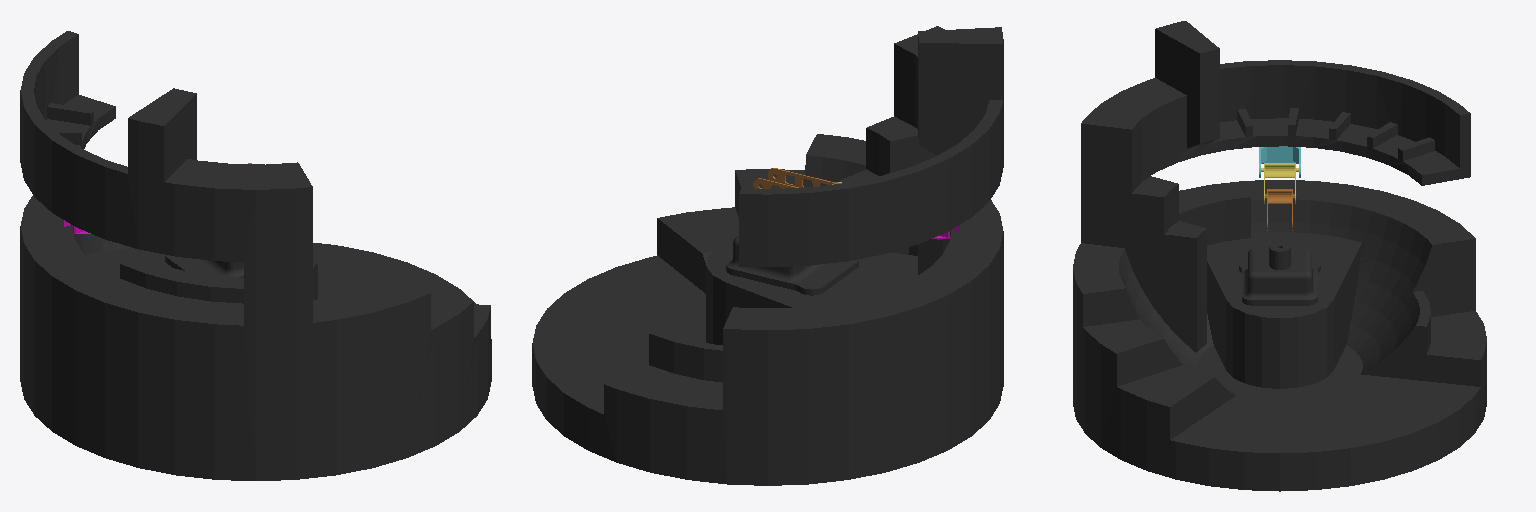
robot.urdf — Robot_URDF_Visuals:
<?xml version="1.0" encoding="utf-8"?>
<!-- This URDF was automatically created by SolidWorks to URDF Exporter! Originally created by [author] ([email redacted]) 
     Commit Version: 1.6.0-4-g7f85cfe  Build Version: 1.6.7995.38578
     For more information, please see http://wiki.ros.org/sw_urdf_exporter -->
<robot
  name="Robot_URDF_Visuals">
  <link
    name="Base_Link">
    <inertial>
      <origin
        xyz="-0.023518 -0.010863 0.071827"
        rpy="0 0 0" />
      <mass
        value="233.41" />
      <inertia
        ixx="10.744"
        ixy="0.13376"
        ixz="0.54602"
        iyy="10.299"
        iyz="0.28982"
        izz="11.726" />
    </inertial>
    <visual>
      <origin
        xyz="0 0 0"
        rpy="0 0 0" />
      <geometry>
        <mesh
          filename="package://Robot_URDF_Visuals/meshes/Base_Link.STL" />
      </geometry>
      <material
        name="">
        <color
          rgba="0.235 0.235 0.235 1" />
      </material>
    </visual>
    <collision>
      <origin
        xyz="0 0 0"
        rpy="0 0 0" />
      <geometry>
        <mesh
          filename="package://Robot_URDF_Visuals/meshes/Base_Link_Collision.STL" />
      </geometry>
    </collision>
  </link>
  <link
    name="Link_1">
    <inertial>
      <origin
        xyz="-4.4073E-18 1.5659E-19 0.027848"
        rpy="0 0 0" />
      <mass
        value="0.46369" />
      <inertia
        ixx="0.00017765"
        ixy="1.4414E-21"
        ixz="6.4285E-21"
        iyy="0.00016376"
        iyz="-2.9857E-20"
        izz="7.9649E-05" />
    </inertial>
    <visual>
      <origin
        xyz="0 0 0"
        rpy="0 0 0" />
      <geometry>
        <mesh
          filename="package://Robot_URDF_Visuals/meshes/Link_1.STL" />
      </geometry>
      <material
        name="">
        <color
          rgba="0.51 0.16 0.16 1" />
      </material>
    </visual>
    <collision>
      <origin
        xyz="0 0 0"
        rpy="0 0 0" />
      <geometry>
        <mesh
          filename="package://Robot_URDF_Visuals/meshes/Link_1_Collision.STL" />
      </geometry>
    </collision>
  </link>
  <joint
    name="Joint1"
    type="revolute">
    <origin
      xyz="0 0 0.09"
      rpy="0 0 0" />
    <parent
      link="Base_Link" />
    <child
      link="Link_1" />
    <axis
      xyz="0 0 -1" />
    <limit
      lower="-1.57"
      upper="1.57"
      effort="10"
      velocity="100" />
  </joint>
  <link
    name="Link_2">
    <inertial>
      <origin
        xyz="-0.06757 -0.0225 0"
        rpy="0 0 0" />
      <mass
        value="0.11993" />
      <inertia
        ixx="5.3919E-05"
        ixy="2.9147E-20"
        ixz="1.5432E-20"
        iyy="0.00022432"
        iyz="-1.7123E-21"
        izz="0.00026271" />
    </inertial>
    <visual>
      <origin
        xyz="0 0 0"
        rpy="0 0 0" />
      <geometry>
        <mesh
          filename="package://Robot_URDF_Visuals/meshes/Link_2.STL" />
      </geometry>
      <material
        name="">
        <color
          rgba="0.682 0.471 0.255 1" />
      </material>
    </visual>
    <collision>
      <origin
        xyz="0 0 0"
        rpy="0 0 0" />
      <geometry>
        <mesh
          filename="package://Robot_URDF_Visuals/meshes/Link_2_Collision.STL" />
      </geometry>
    </collision>
  </link>
  <joint
    name="Joint2"
    type="revolute">
    <origin
      xyz="0 0.0225 0.045"
      rpy="0 0 0" />
    <parent
      link="Link_1" />
    <child
      link="Link_2" />
    <axis
      xyz="-3.1128E-05 -1 0" />
    <limit
      lower="-1.57"
      upper="1.57"
      effort="10"
      velocity="100" />
  </joint>
  <link
    name="Link_3">
    <inertial>
      <origin
        xyz="-0.07128 -0.0275 2.7756E-17"
        rpy="0 0 0" />
      <mass
        value="0.12851" />
      <inertia
        ixx="8.1361E-05"
        ixy="6.4472E-20"
        ixz="-1.9113E-20"
        iyy="0.00023943"
        iyz="4.5184E-20"
        izz="0.00030386" />
    </inertial>
    <visual>
      <origin
        xyz="0 0 0"
        rpy="0 0 0" />
      <geometry>
        <mesh
          filename="package://Robot_URDF_Visuals/meshes/Link_3.STL" />
      </geometry>
      <material
        name="">
        <color
          rgba="0.824 0.765 0.353 1" />
      </material>
    </visual>
    <collision>
      <origin
        xyz="0 0 0"
        rpy="0 0 0" />
      <geometry>
        <mesh
          filename="package://Robot_URDF_Visuals/meshes/Link_3_Collision.STL" />
      </geometry>
    </collision>
  </link>
  <joint
    name="Joint3"
    type="revolute">
    <origin
      xyz="-0.107 0.005 0"
      rpy="0 0 0" />
    <parent
      link="Link_2" />
    <child
      link="Link_3" />
    <axis
      xyz="-3.1128E-05 -1 0" />
    <limit
      lower="-1.57"
      upper="1.57"
      effort="10"
      velocity="100" />
  </joint>
  <link
    name="Link_4">
    <inertial>
      <origin
        xyz="-0.045271 -0.035 5.5511E-17"
        rpy="0 0 0" />
      <mass
        value="0.14501" />
      <inertia
        ixx="0.00013446"
        ixy="-2.5635E-20"
        ixz="1.897E-20"
        iyy="0.00012072"
        iyz="-3.1903E-21"
        izz="0.00022946" />
    </inertial>
    <visual>
      <origin
        xyz="0 0 0"
        rpy="0 0 0" />
      <geometry>
        <mesh
          filename="package://Robot_URDF_Visuals/meshes/Link_4.STL" />
      </geometry>
      <material
        name="">
        <color
          rgba="0.431 0.784 0.824 1" />
      </material>
    </visual>
    <collision>
      <origin
        xyz="0 0 0"
        rpy="0 0 0" />
      <geometry>
        <mesh
          filename="package://Robot_URDF_Visuals/meshes/Link_4_Collision.STL" />
      </geometry>
    </collision>
  </link>
  <joint
    name="Joint4"
    type="revolute">
    <origin
      xyz="-0.107 0.0075 0"
      rpy="0 0 0" />
    <parent
      link="Link_3" />
    <child
      link="Link_4" />
    <axis
      xyz="3.1128E-05 1 0" />
    <limit
      lower="-1.57"
      upper="1.57"
      effort="10"
      velocity="100" />
  </joint>
  <link
    name="End_Effector_1">
    <inertial>
      <origin
        xyz="-0.0018349 0.0057553 -1.3167E-06"
        rpy="0 0 0" />
      <mass
        value="0.021787" />
      <inertia
        ixx="3.9936E-06"
        ixy="-8.6187E-07"
        ixz="5.2637E-11"
        iyy="5.8402E-06"
        iyz="-1.651E-10"
        izz="3.6098E-06" />
    </inertial>
    <visual>
      <origin
        xyz="0 0 0"
        rpy="0 0 0" />
      <geometry>
        <mesh
          filename="package://Robot_URDF_Visuals/meshes/End_Effector_1.STL" />
      </geometry>
      <material
        name="">
        <color
          rgba="0.863 0.118 0.784 1" />
      </material>
    </visual>
    <collision>
      <origin
        xyz="0 0 0"
        rpy="0 0 0" />
      <geometry>
        <mesh
          filename="package://Robot_URDF_Visuals/meshes/End_Effector_1_Collision.STL" />
      </geometry>
    </collision>
  </link>
  <joint
    name="Joint5_1"
    type="prismatic">
    <origin
      xyz="-0.079479 -0.0195 0"
      rpy="0 0 0" />
    <parent
      link="Link_4" />
    <child
      link="End_Effector_1" />
    <axis
      xyz="0 -0.99638 -0.084962" />
    <limit
      lower="-1.57"
      upper="1.57"
      effort="10"
      velocity="100" />
  </joint>
  <link
    name="End_Effector_2">
    <inertial>
      <origin
        xyz="-0.0018349 -0.036755 1.3167E-06"
        rpy="0 0 0" />
      <mass
        value="0.021787" />
      <inertia
        ixx="3.9936E-06"
        ixy="8.6187E-07"
        ixz="-5.2637E-11"
        iyy="5.8402E-06"
        iyz="-1.651E-10"
        izz="3.6098E-06" />
    </inertial>
    <visual>
      <origin
        xyz="0 0 0"
        rpy="0 0 0" />
      <geometry>
        <mesh
          filename="package://Robot_URDF_Visuals/meshes/End_Effector_2.STL" />
      </geometry>
      <material
        name="">
        <color
          rgba="0.863 0.118 0.784 1" />
      </material>
    </visual>
    <collision>
      <origin
        xyz="0 0 0"
        rpy="0 0 0" />
      <geometry>
        <mesh
          filename="package://Robot_URDF_Visuals/meshes/End_Effector_2_Collision.STL" />
      </geometry>
    </collision>
  </link>
  <joint
    name="Joint5_2"
    type="prismatic">
    <origin
      xyz="-0.079479 -0.0195 0"
      rpy="0 0 0" />
    <parent
      link="Link_4" />
    <child
      link="End_Effector_2" />
    <axis
      xyz="0 -0.99638 -0.084962" />
    <limit
      lower="-1.57"
      upper="1.57"
      effort="10"
      velocity="100" />
  </joint>
</robot>

--- What the picture shows (computed from the rendered views, not written in the file) ---
Views: 3 orthographic renders of the robot side by side, from view 1: azimuth 30°, elevation 25°; view 2: azimuth 150°, elevation 25°; view 3: azimuth 270°, elevation 25°.
Model Robot_URDF_Visuals with 7 links and 6 joints (4 revolute, 2 prismatic), rooted at Base_Link, posed every joint at zero.
Visible links, largest first — view 1: Base_Link; view 2: Base_Link, Link_2; view 3: Base_Link, Link_4, Link_3.
Boxes of the visible links, box(x1,y1,x2,y2) form: Base_Link: box(20, 31, 491, 480); Base_Link: box(532, 26, 1003, 485); Link_2: box(753, 168, 837, 188); Base_Link: box(1073, 21, 1486, 491); Link_4: box(1259, 146, 1300, 177); Link_3: box(1261, 163, 1298, 203).
Size in the robot's own frame: 0.7054 by 0.7054 by 0.5737 metres.
6 mesh visuals loaded from 7 distinct referenced files (6 binary STL); not drawn: 1 (reference not matched to a file when rendering).